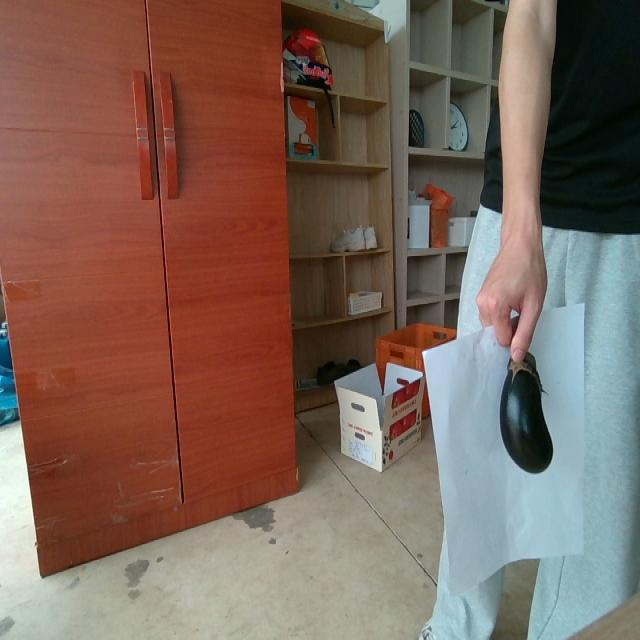Egg plant: (500, 352, 552, 472)
